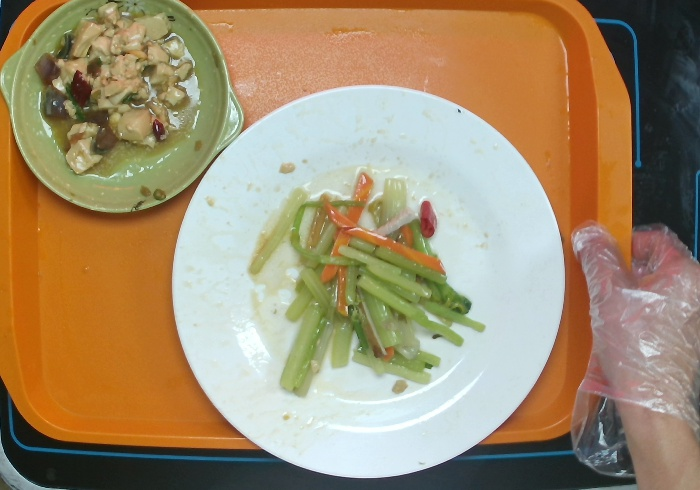NLDX-Da_Yuan_Pan: (173, 87, 571, 478)
NLDX-Lv_Hua_Shuang_Er_Die: (1, 1, 246, 217)
